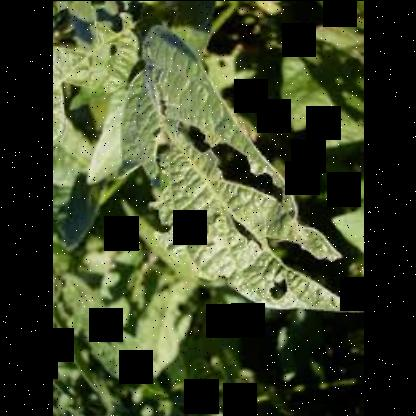agujero: (262, 232, 360, 300), (206, 132, 284, 204), (173, 121, 213, 154), (228, 214, 264, 248), (148, 128, 172, 174), (265, 274, 287, 302)
